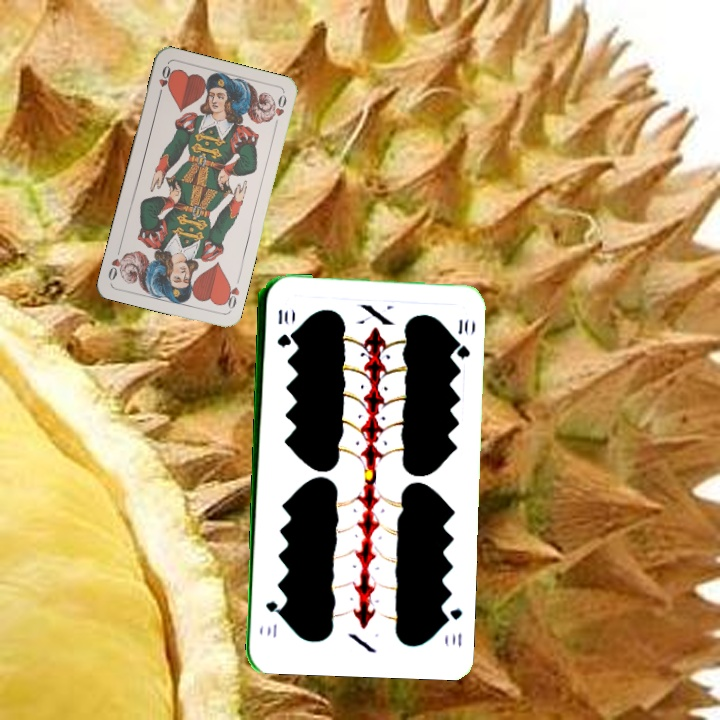G10: (439, 604, 465, 649), (273, 305, 291, 350)
HO: (219, 278, 242, 314), (154, 62, 175, 101)
